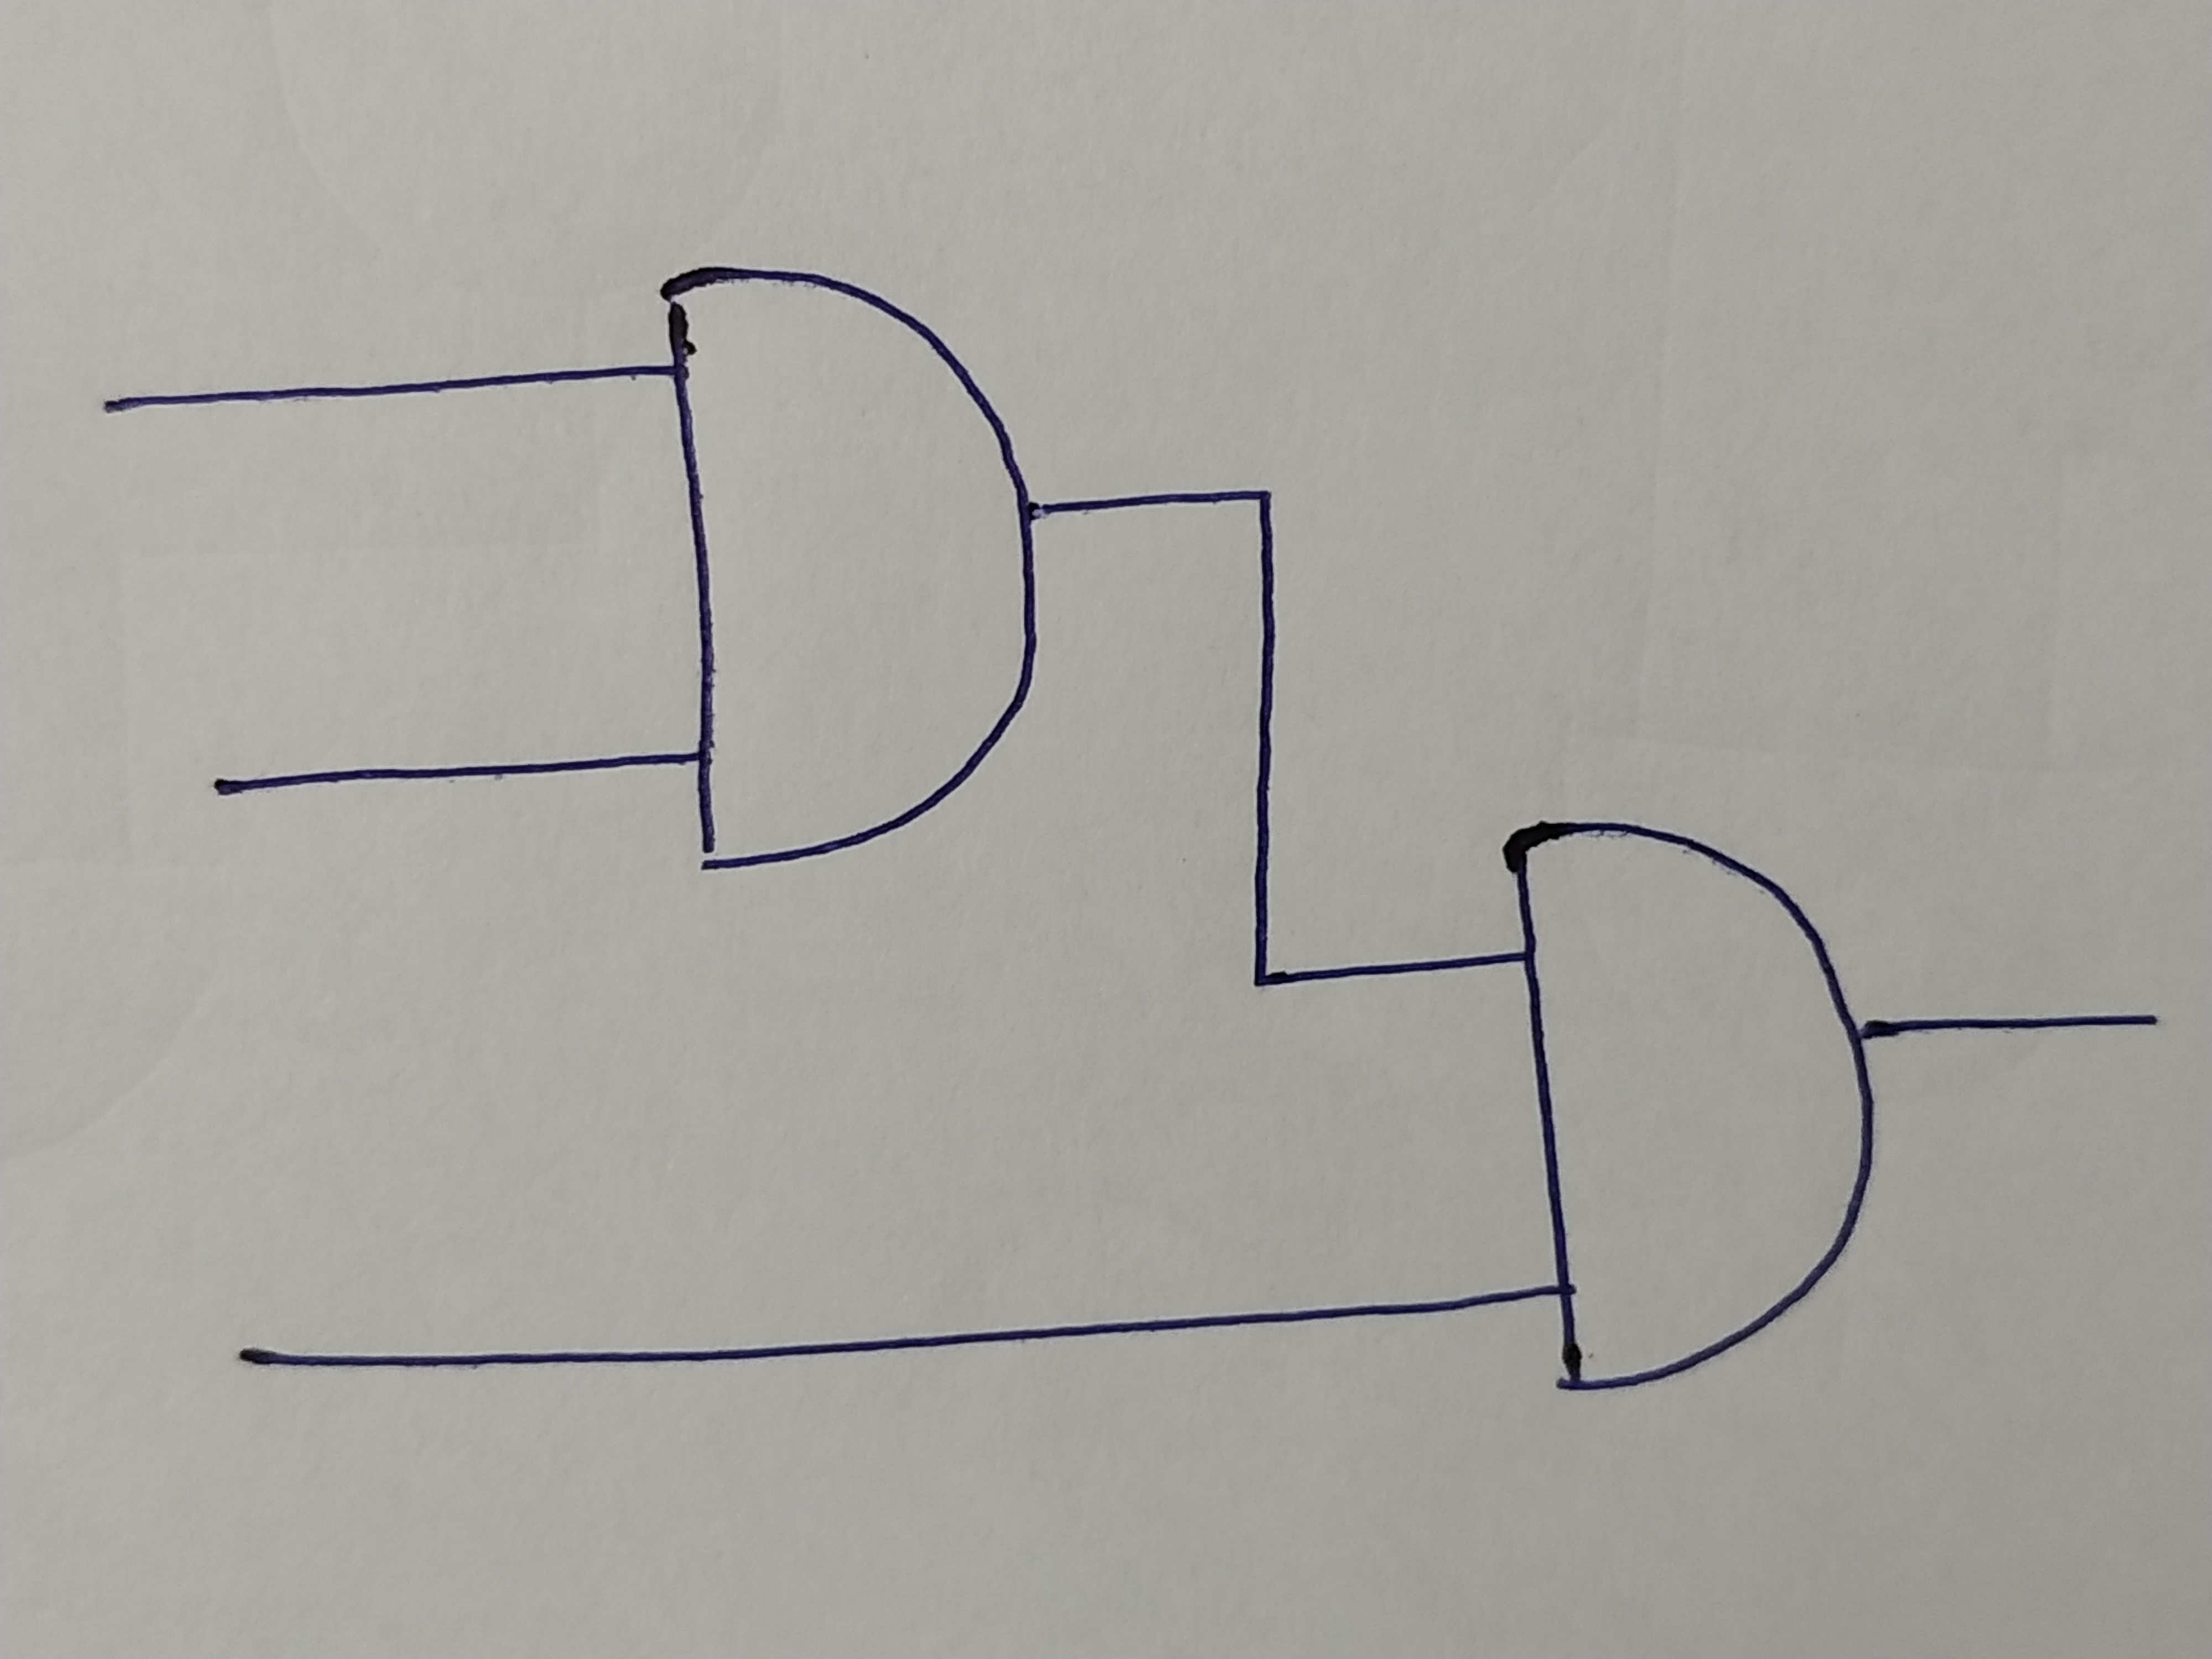and: (657, 272, 1029, 880), (1514, 824, 1865, 1389)
